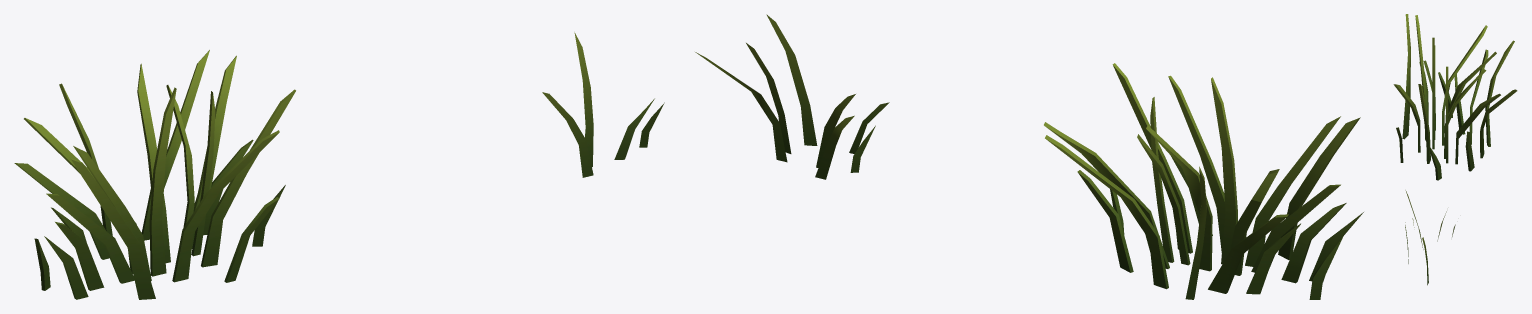
Rendered from grass.glb.
The picture shows the model from 3 angles, left to right: view 1: azimuth 30°, elevation 25°; view 2: azimuth 150°, elevation 25°; view 3: azimuth 270°, elevation 25°; orthographic projection. The views are drawn at different scales.
Visible parts, largest first — view 1: Grass_Large_Extruded, Grass_Small; view 2: Grass_Large_Extruded, Grass_Small; view 3: Grass_Large_Extruded, Grass_Small.
Part boxes in pixels (box(x1,y1,x2,y2)): Grass_Large_Extruded: box(14, 50, 295, 299); Grass_Small: box(542, 32, 664, 177); Grass_Large_Extruded: box(1044, 63, 1363, 299); Grass_Small: box(695, 14, 889, 179); Grass_Large_Extruded: box(1393, 14, 1517, 180); Grass_Small: box(1405, 190, 1455, 285).
Size of the model in its own units: 1.84 by 0.5112 by 0.4973.
Materials: 1 (1 with a texture image).
